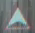Speed Breaker ahead: (2, 3, 33, 32)
